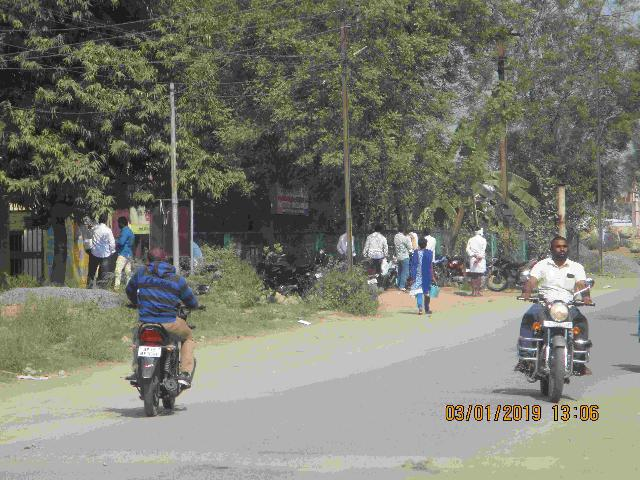motor: (125, 285, 213, 422), (516, 270, 597, 406)
non-helm: (551, 237, 571, 264), (147, 248, 170, 266)
